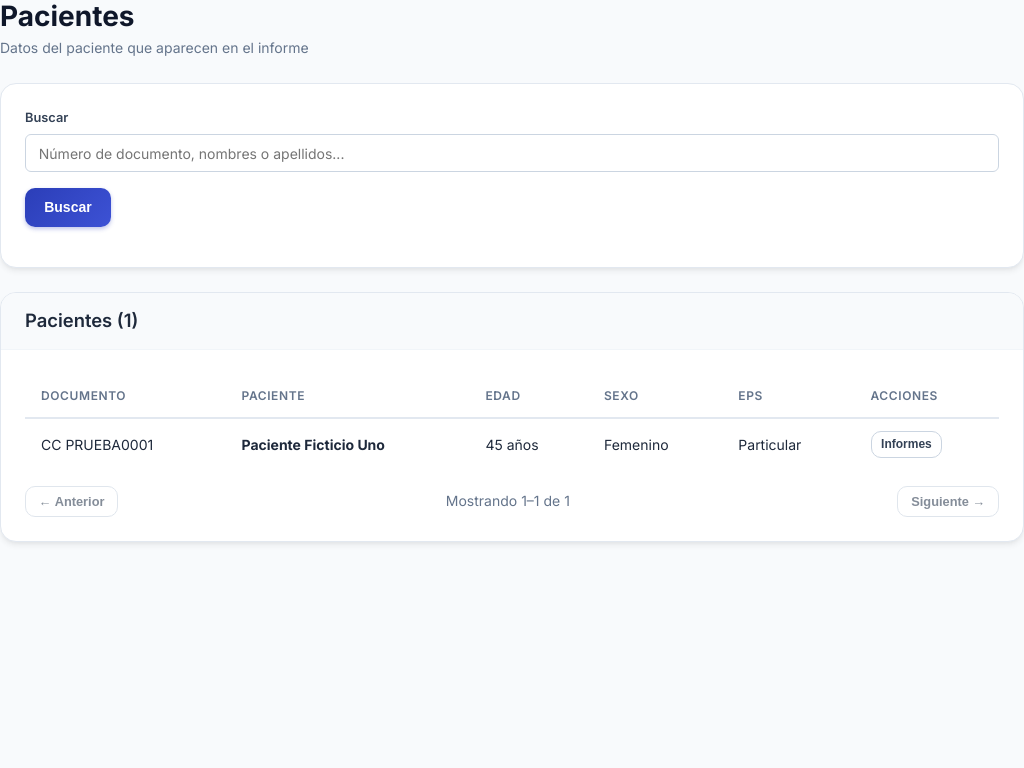
Test: PacientesPage: historial de informes › avisa si el paciente no tiene informes
The image size is (1024, 768).
Click the button "Informes": click(906, 445) [870, 431, 942, 458]
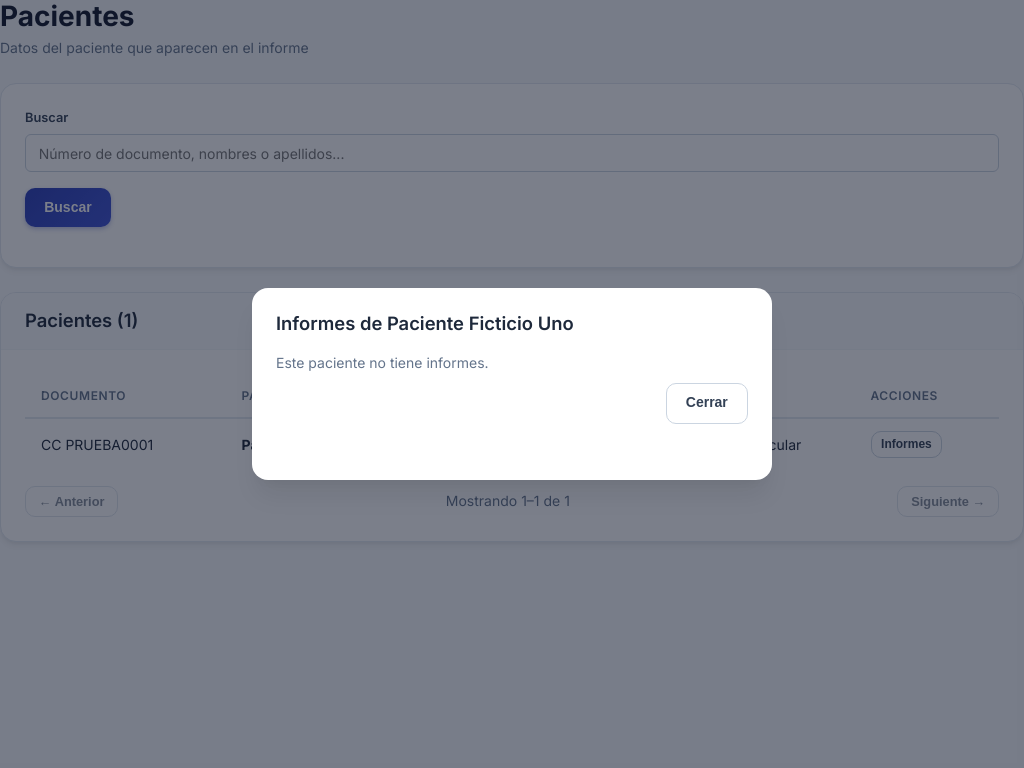
Now the text "Este paciente no tiene informes." is shown, box [276, 354, 489, 371]
